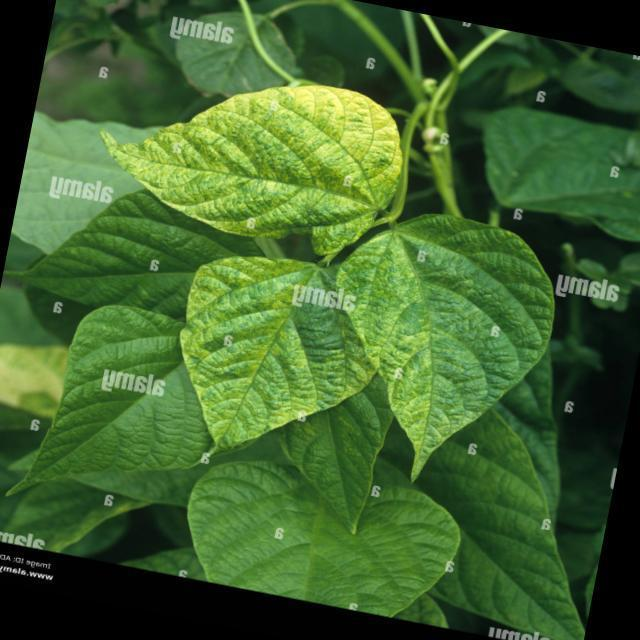Mosaic Virus: (101, 53, 407, 259), (335, 200, 554, 460), (150, 240, 378, 484)
